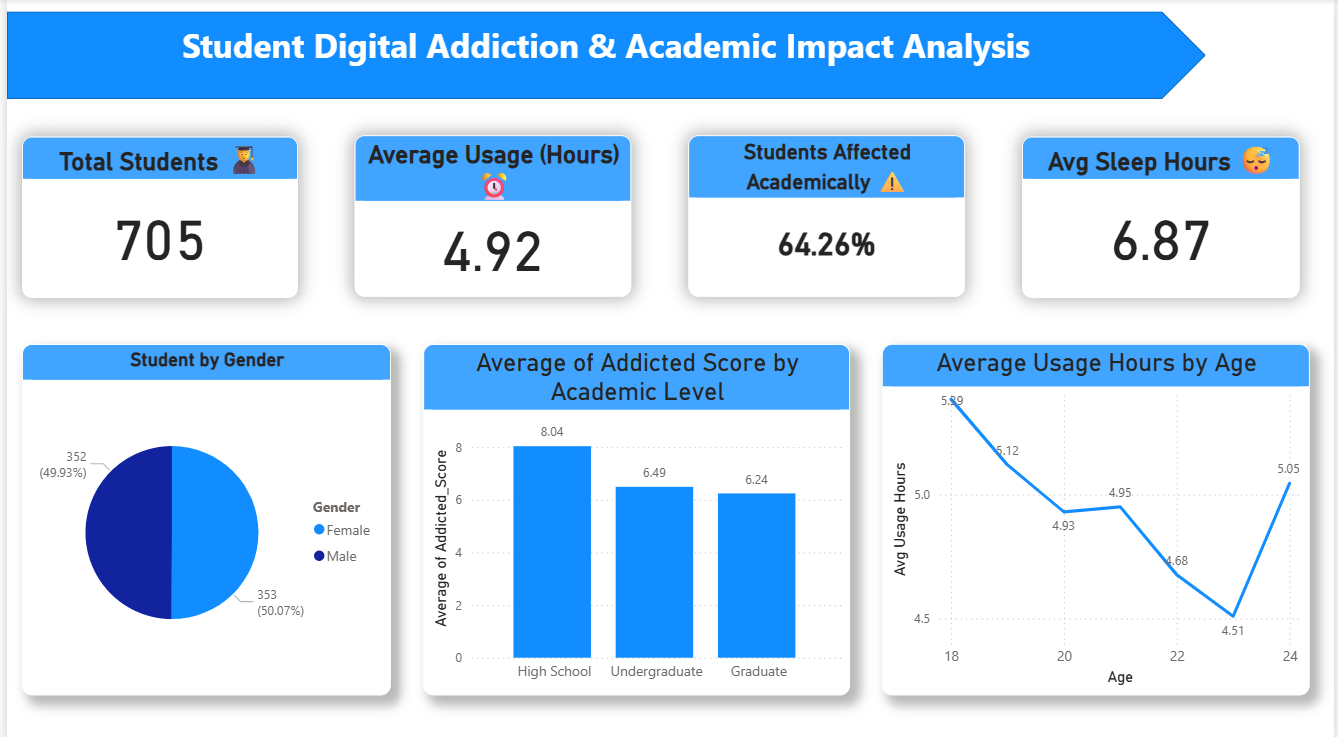

What the dashboard file says about the page in this screenshot:
{"tool":"powerbi","page":{"name":"Overview Dashboard","canvas":[1280,720],"ordinal":0},"visuals":[{"type":"card","title":"Total Students 🧑🎓","fields":{"Values":["Student Details.Total Students"]},"box":[14.5,132.2,266.6,155.6],"z":0},{"type":"lineChart","title":"Average Usage Hours by Age","fields":{"Y":["Platform Details.Avg Usage Hours"],"Category":["Student Details.Age"]},"box":[844.5,333,412.6,339],"z":1000},{"type":"card","title":"Average Usage (Hours) ⏰","fields":{"Values":["Platform Details.Avg Usage Hours"]},"box":[335.9,131.3,267,155.6],"z":3000},{"type":"card","title":"Students Affected Academically ⚠️","fields":{"Values":["Platform Details.% Affected Academically"]},"box":[657.8,131.7,267,155.6],"z":4000},{"type":"card","title":"Avg Sleep Hours 😴","fields":{"Values":["Student Details.Avg Sleep Hours"]},"box":[979.6,132.7,267.8,155.6],"z":5000},{"type":"columnChart","title":"Average of Addicted Score by Academic Level","fields":{"Y":["Avg(Student Details.Addicted_Score)"],"Category":["Student Details.Academic_Level"]},"box":[401.7,333,412,339],"z":6000},{"type":"pieChart","title":"Student by Gender","fields":{"Category":["Student Details.Gender"],"Y":["CountNonNull(Student Details.Student_ID)"]},"box":[14.5,333,355.9,339],"z":7000},{"type":"shape","box":[0,12.1,1157,84.5],"z":7001},{"type":"textbox","box":[164.1,18.1,833.7,60.3],"z":7002}]}

Visuals, with their boxes in screenshot pixels (x1, y1, x2, y2), scaled from the page's 1280x720 canvas onto the 1338x737 screenshot:
"Total Students 🧑🎓" card: pyautogui.locateOnScreen(15, 135, 294, 295)
"Average Usage Hours by Age" lineChart: pyautogui.locateOnScreen(883, 341, 1314, 688)
"Average Usage (Hours) ⏰" card: pyautogui.locateOnScreen(351, 134, 630, 294)
"Students Affected Academically ⚠️" card: pyautogui.locateOnScreen(688, 135, 967, 294)
"Avg Sleep Hours 😴" card: pyautogui.locateOnScreen(1024, 136, 1304, 295)
"Average of Addicted Score by Academic Level" columnChart: pyautogui.locateOnScreen(420, 341, 851, 688)
"Student by Gender" pieChart: pyautogui.locateOnScreen(15, 341, 387, 688)
shape: pyautogui.locateOnScreen(0, 12, 1209, 99)
textbox: pyautogui.locateOnScreen(172, 19, 1043, 80)
